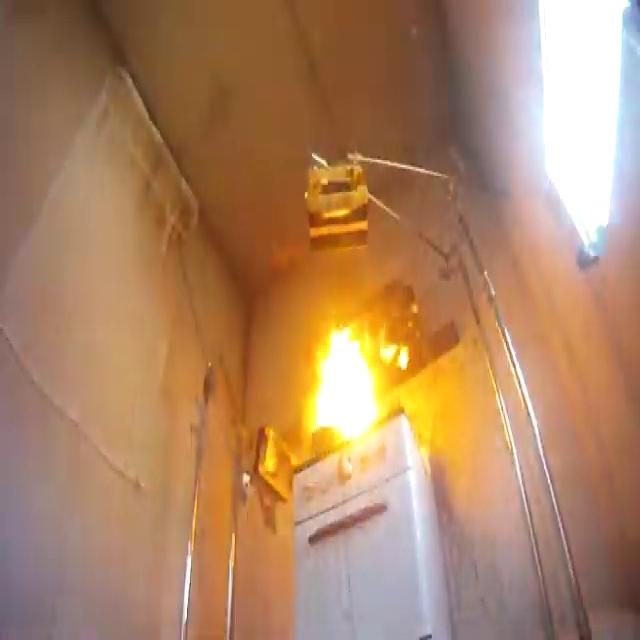fire: (292, 314, 404, 476)
